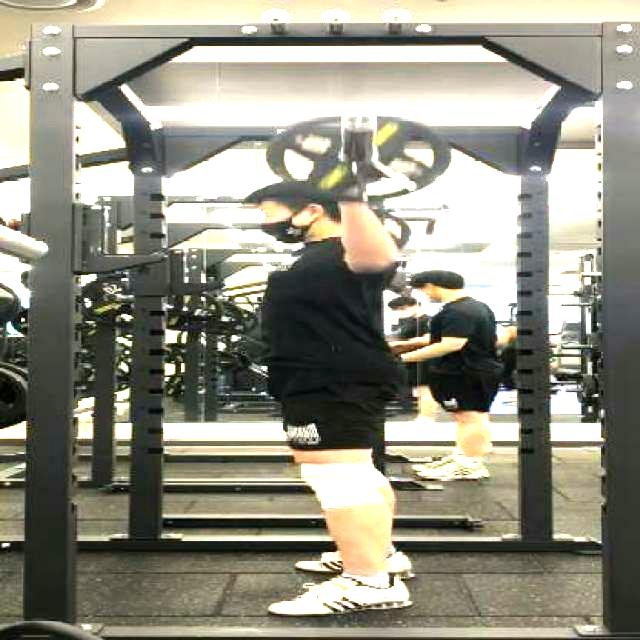barbell: (266, 101, 455, 212)
